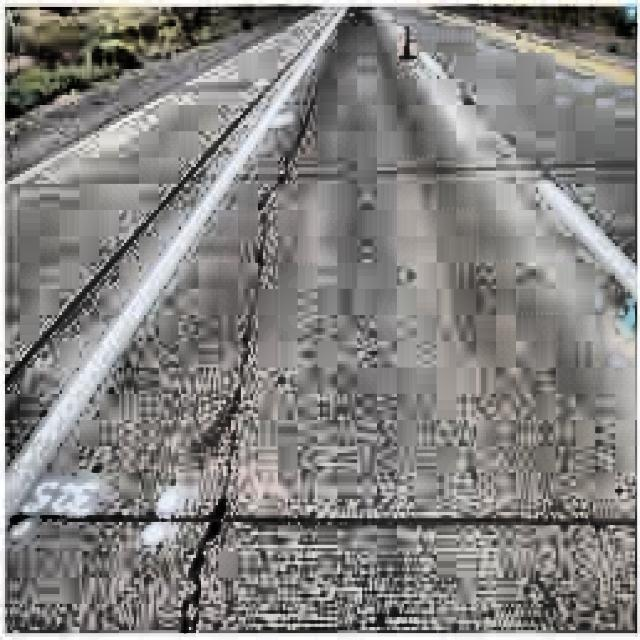cracks: (184, 102, 313, 630)
